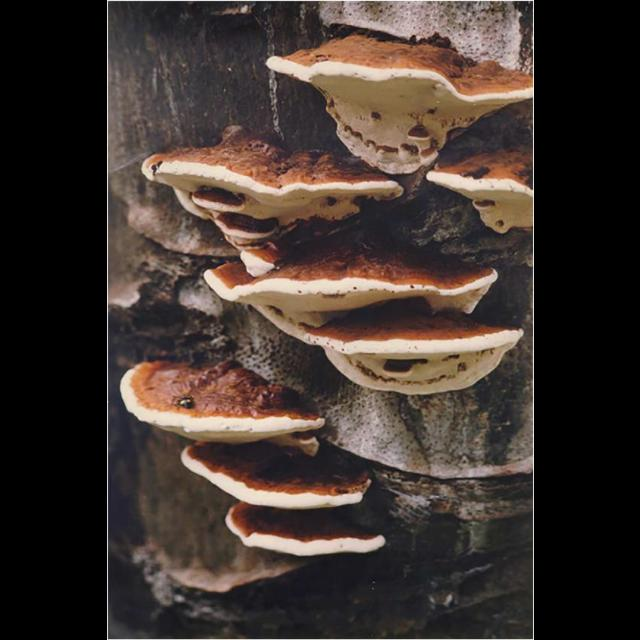ganoderma: (264, 32, 535, 178), (142, 129, 407, 251), (202, 251, 500, 346), (307, 306, 525, 400), (119, 360, 330, 445), (180, 441, 375, 514), (426, 146, 535, 239), (223, 499, 389, 560)
